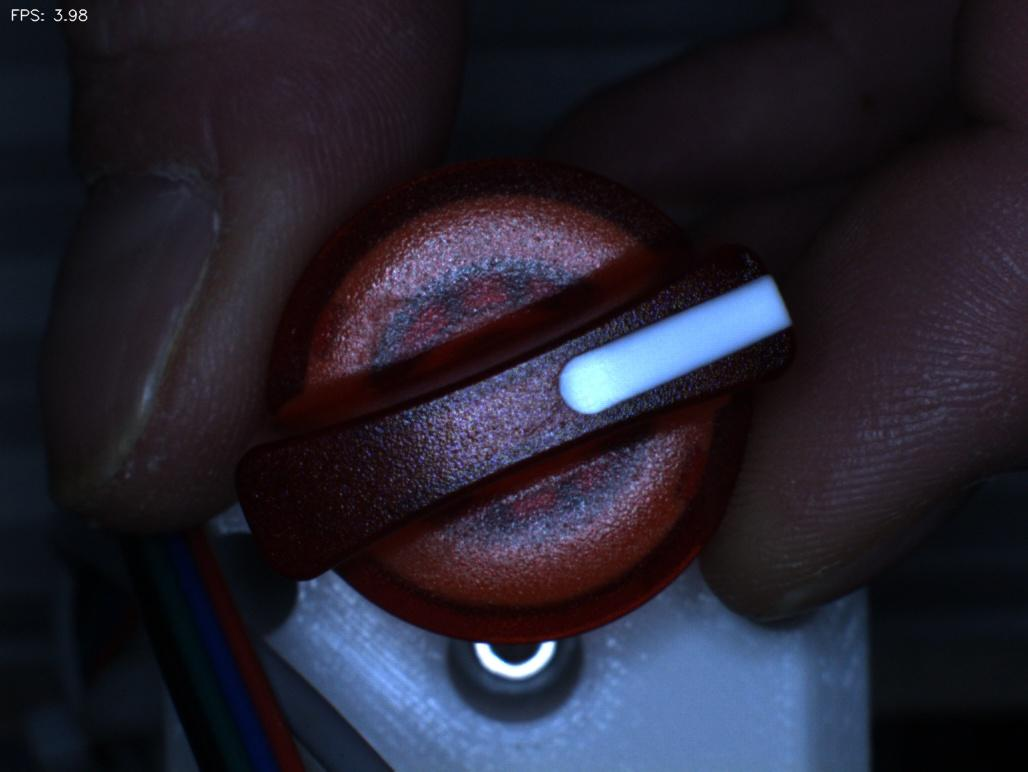Choc: (679, 202, 779, 302)
